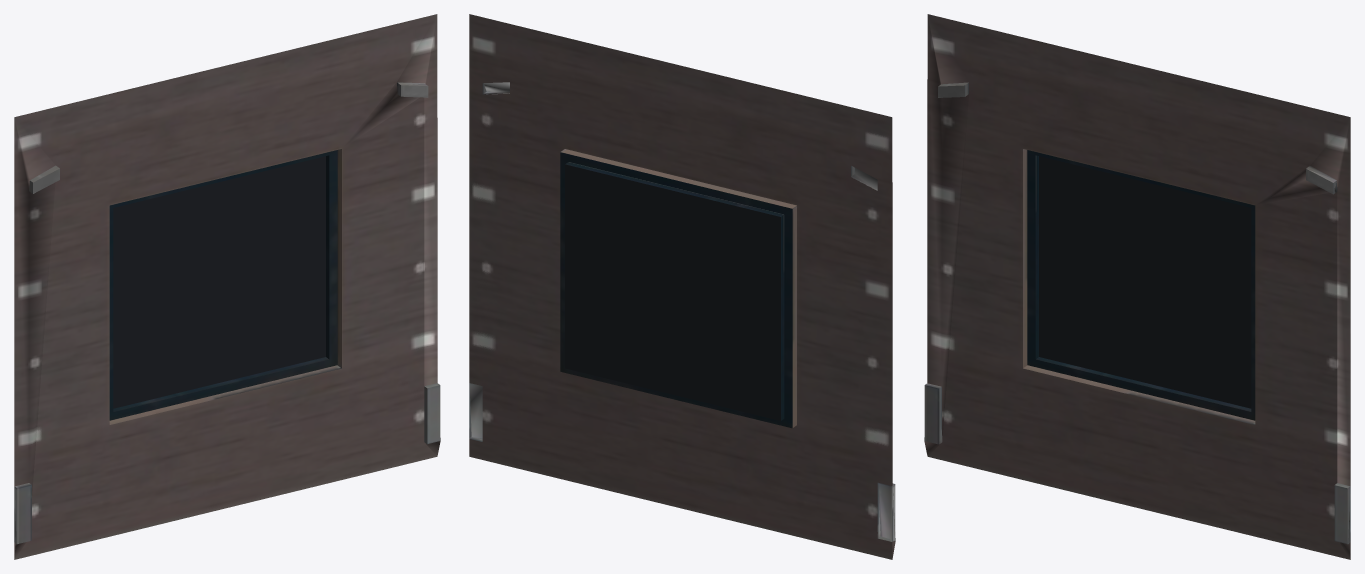
Rendered from sm_cb01_module04.glb.
The picture shows the model from 3 angles, left to right: view 1: azimuth 30°, elevation 25°; view 2: azimuth 150°, elevation 25°; view 3: azimuth 330°, elevation 25°; orthographic projection.
Parts seen in each view (by area): view 1: sm_cb01_module04_00; view 2: sm_cb01_module04_00; view 3: sm_cb01_module04_00.
Boxes of the visible parts, x1=… form: sm_cb01_module04_00: x1=14, y1=14, x2=440, y2=559; sm_cb01_module04_00: x1=469, y1=14, x2=895, y2=559; sm_cb01_module04_00: x1=924, y1=14, x2=1350, y2=559.
Size of the model in its own units: 3.01 by 3 by 0.1468.
Materials: 2 (1 with a texture image).
